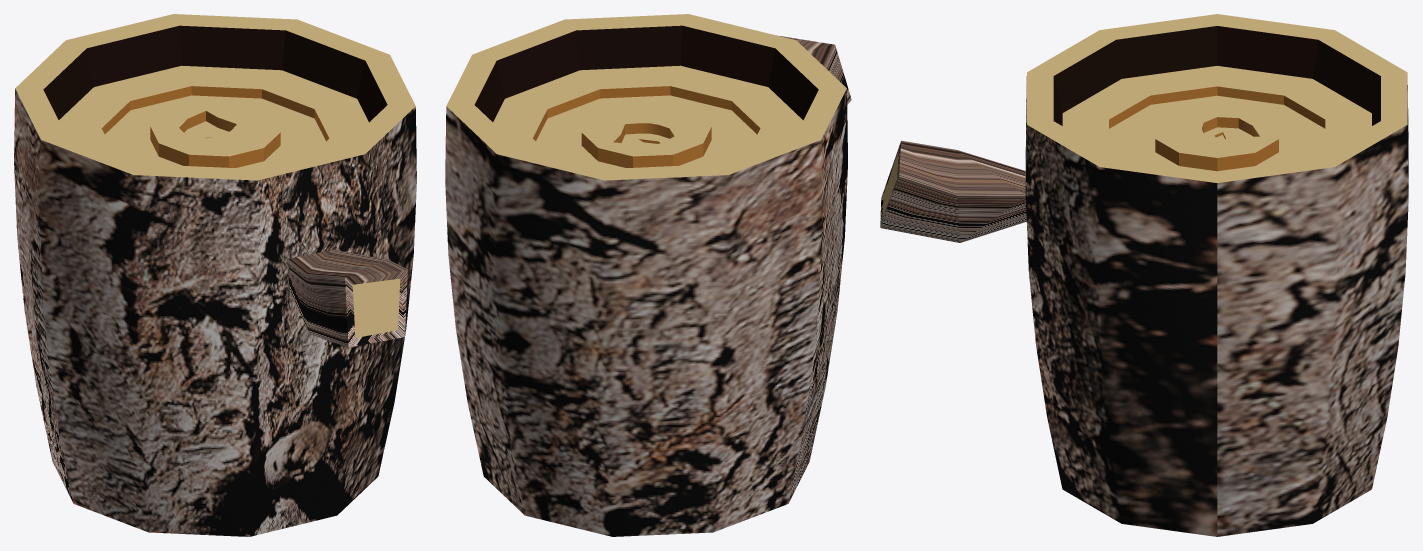
3 renders of one model, left to right at view 1: azimuth 30°, elevation 25°; view 2: azimuth 150°, elevation 25°; view 3: azimuth 270°, elevation 25°, orthographic.
Parts seen in each view (by area): view 1: 통나무; view 2: 통나무; view 3: 통나무.
Boxes of the visible parts, x1=… form: 통나무: x1=14, y1=14, x2=416, y2=536; 통나무: x1=445, y1=14, x2=851, y2=536; 통나무: x1=880, y1=14, x2=1408, y2=536.
Bounding box in the file's own units: 29.47 × 29.86 × 38.69.
Materials: 4 (1 with a texture image).
